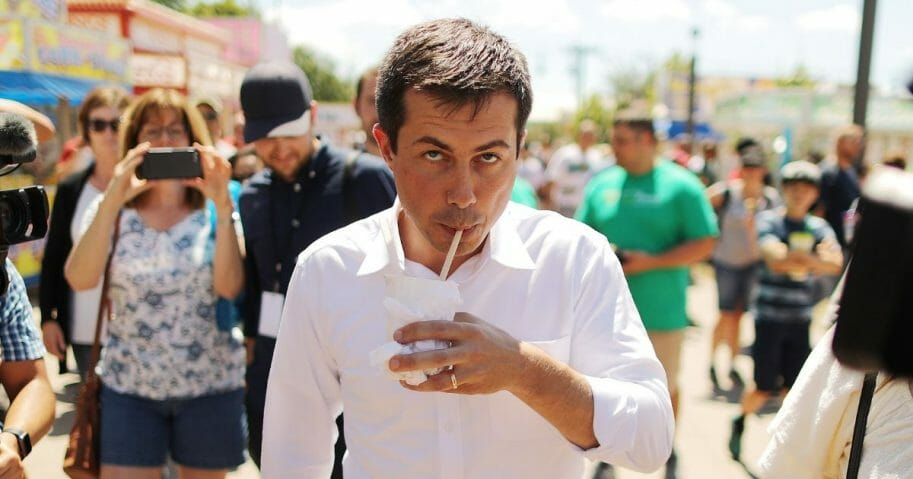drinking: (292, 38, 674, 428)
